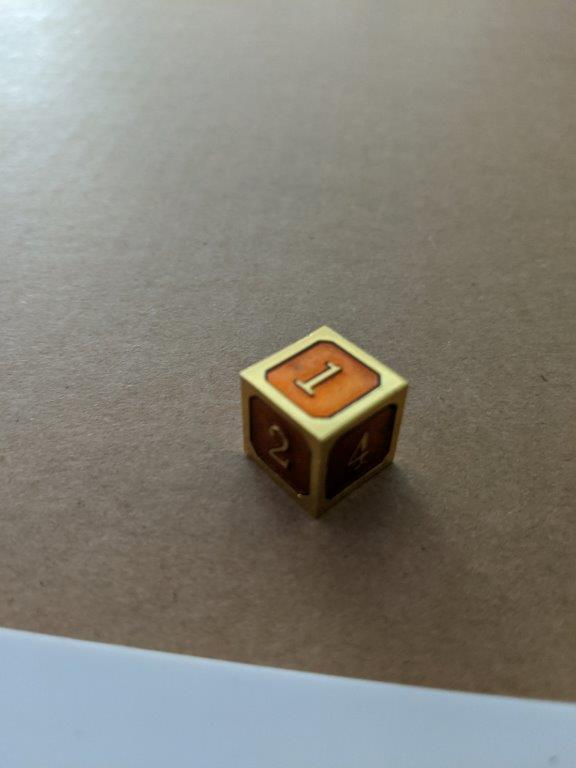d6-1: (238, 321, 411, 520)
